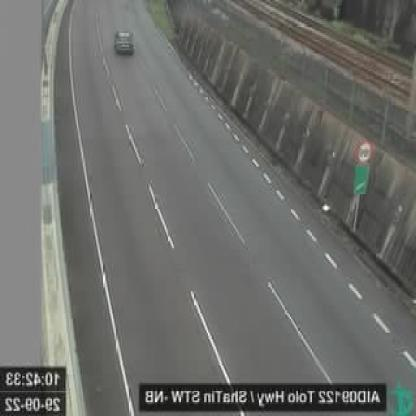Car: (115, 26, 136, 55)
